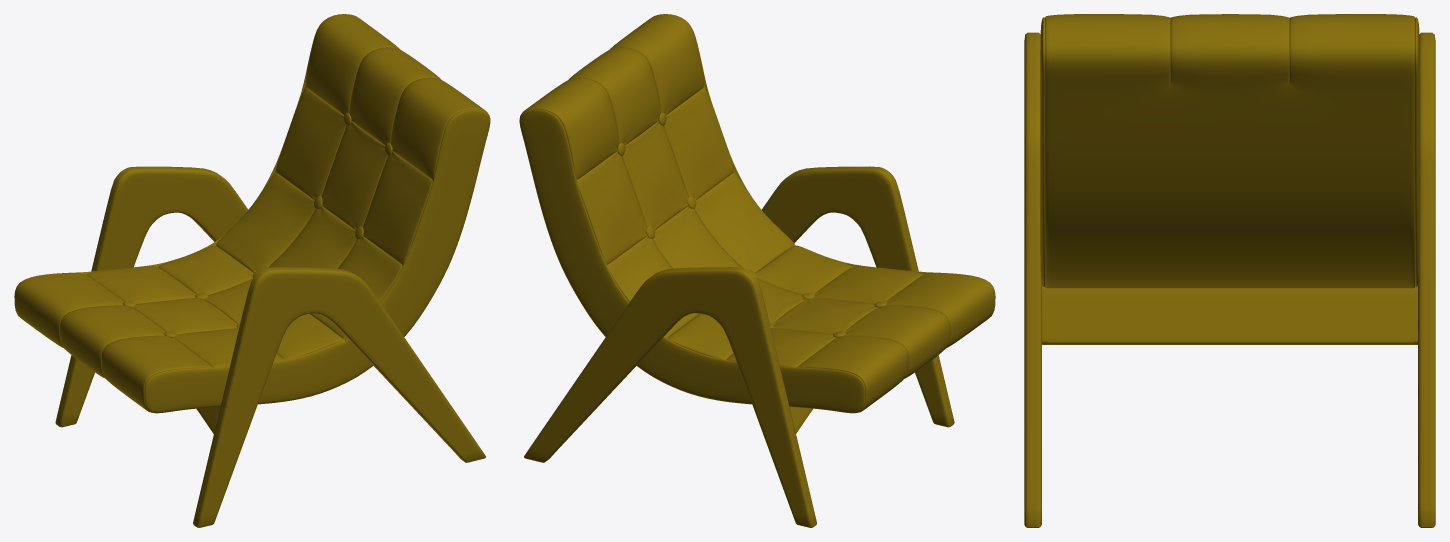
File: Edie Lounge Chair.obj
The picture shows the model from 3 angles, left to right: view 1: azimuth 30°, elevation 25°; view 2: azimuth 150°, elevation 25°; view 3: azimuth 270°, elevation 25°; orthographic projection. The views are drawn at different scales.
Parts seen in each view (by area): view 1: Edie_Lounge_Chair; view 2: Edie_Lounge_Chair; view 3: Edie_Lounge_Chair.
Boxes of the visible parts, x1=… form: Edie_Lounge_Chair: x1=14, y1=14, x2=490, y2=527; Edie_Lounge_Chair: x1=519, y1=14, x2=995, y2=527; Edie_Lounge_Chair: x1=1024, y1=14, x2=1435, y2=527.
Bounding box in the file's own units: 96.21 × 92.04 × 68.91.
